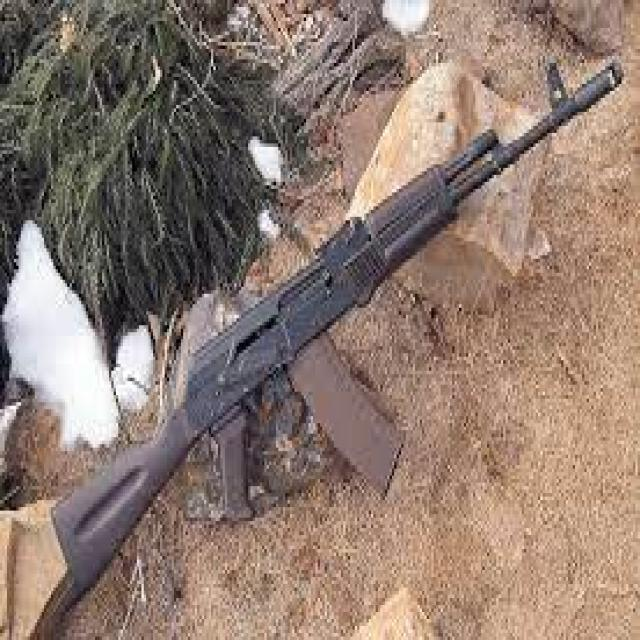weapon: (49, 58, 626, 598)
